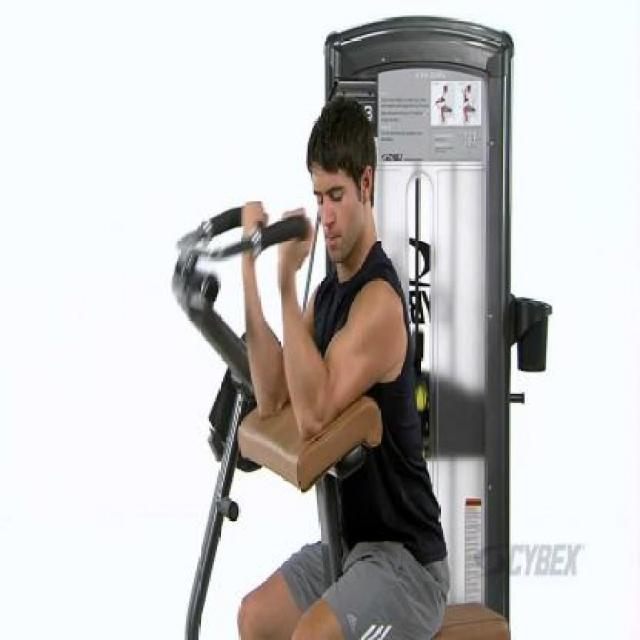arm curl machine: (172, 201, 510, 640)
